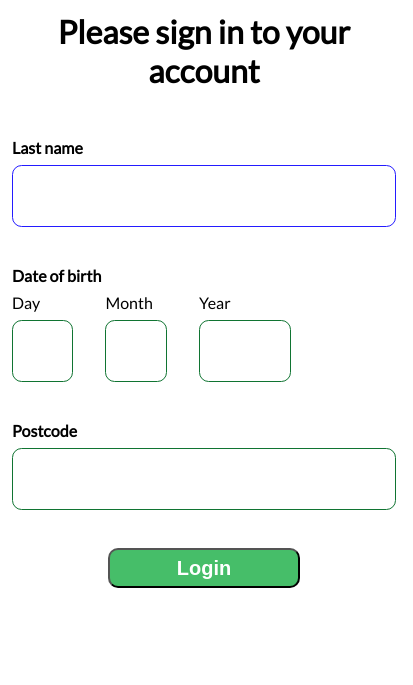
Scenario: Login Form Validation › should display error when day/month is in wrong number range
Type "123" into the field labelled "Day". click: x=43, y=351
box: [12, 320, 73, 382]
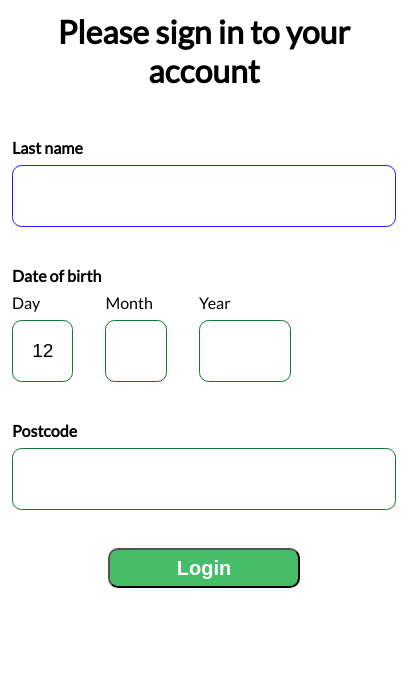
Type "123" into the field labelled "Month". click: x=136, y=351
box: [105, 320, 167, 382]
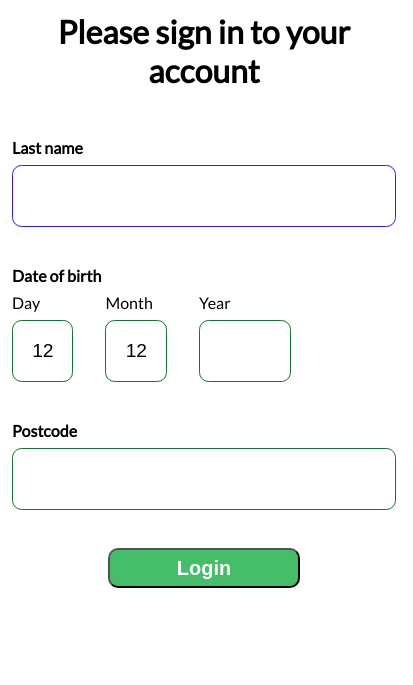
Submit the form from the button, box [108, 548, 300, 588]
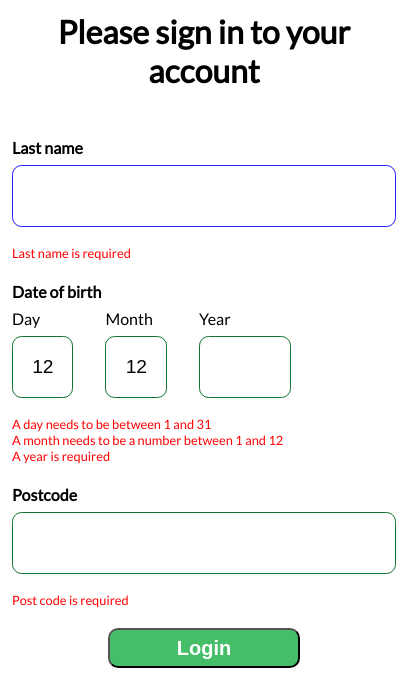
Now the number of messages is 5, box [12, 245, 131, 261]; [12, 416, 211, 432]; [12, 432, 283, 448]; [12, 448, 110, 464]; [12, 592, 129, 608]
Now the text "A day needs to be between 1 and 31" is shown, box [12, 416, 211, 432]
Now the text "A month needs to be a number between 1 and 12" is shown, box [12, 432, 283, 448]
